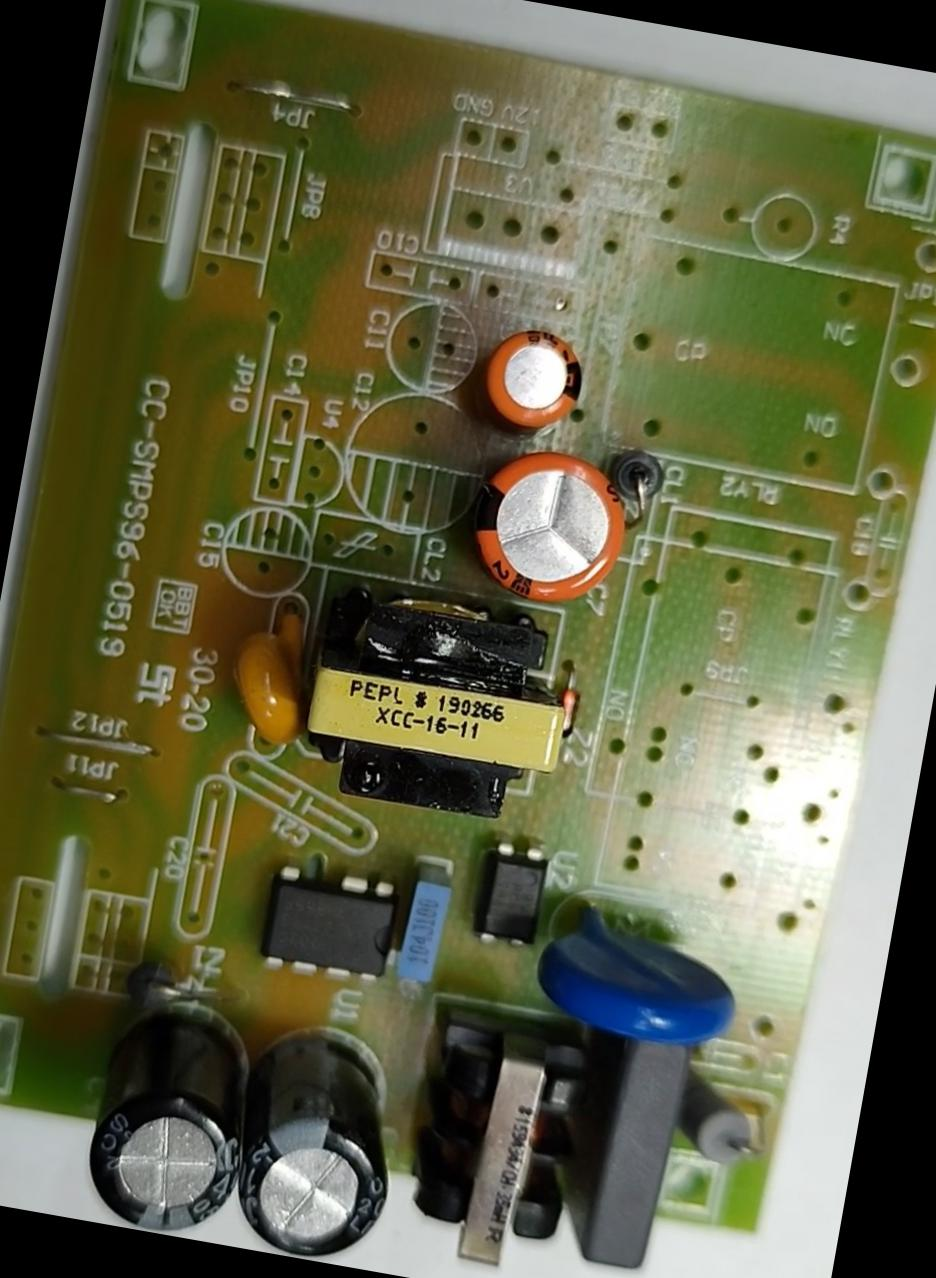Cap1: (446, 427, 644, 633)
Cap2: (468, 306, 600, 445)
Cap3: (208, 1018, 425, 1272)
Cap4: (71, 994, 276, 1246)
MOSFET: (246, 850, 413, 1001)
Mov: (514, 883, 756, 1065)
Resistor: (658, 1066, 776, 1182)
Transformer: (270, 551, 596, 845), (383, 989, 618, 1277)
